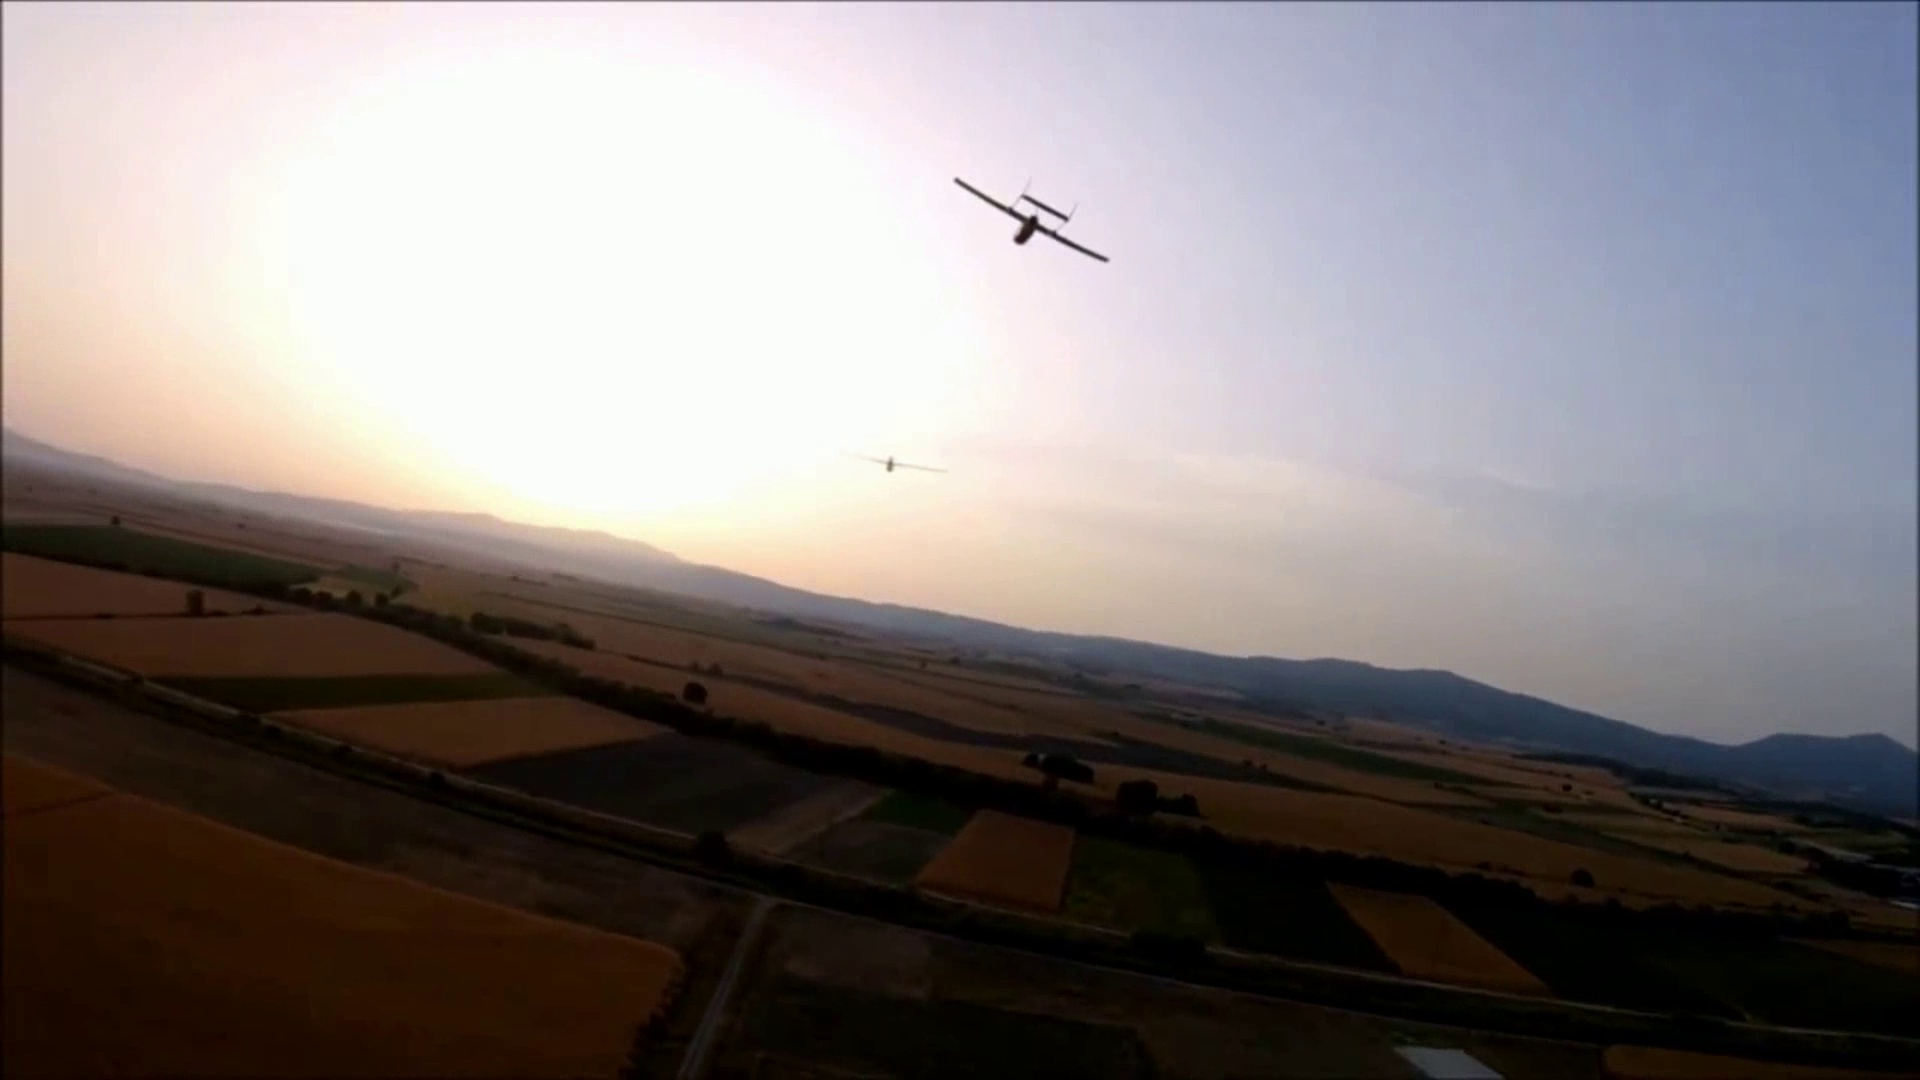airplane: (7, 17, 1912, 1031), (951, 178, 1112, 264)
